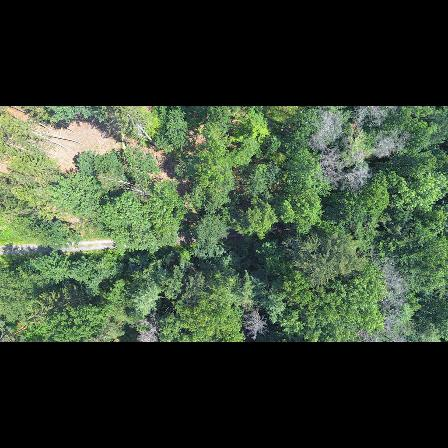Dead: (380, 256, 406, 315), (360, 134, 410, 163), (308, 112, 344, 150), (356, 317, 406, 342), (347, 107, 397, 129), (328, 166, 371, 191), (241, 306, 267, 342)
